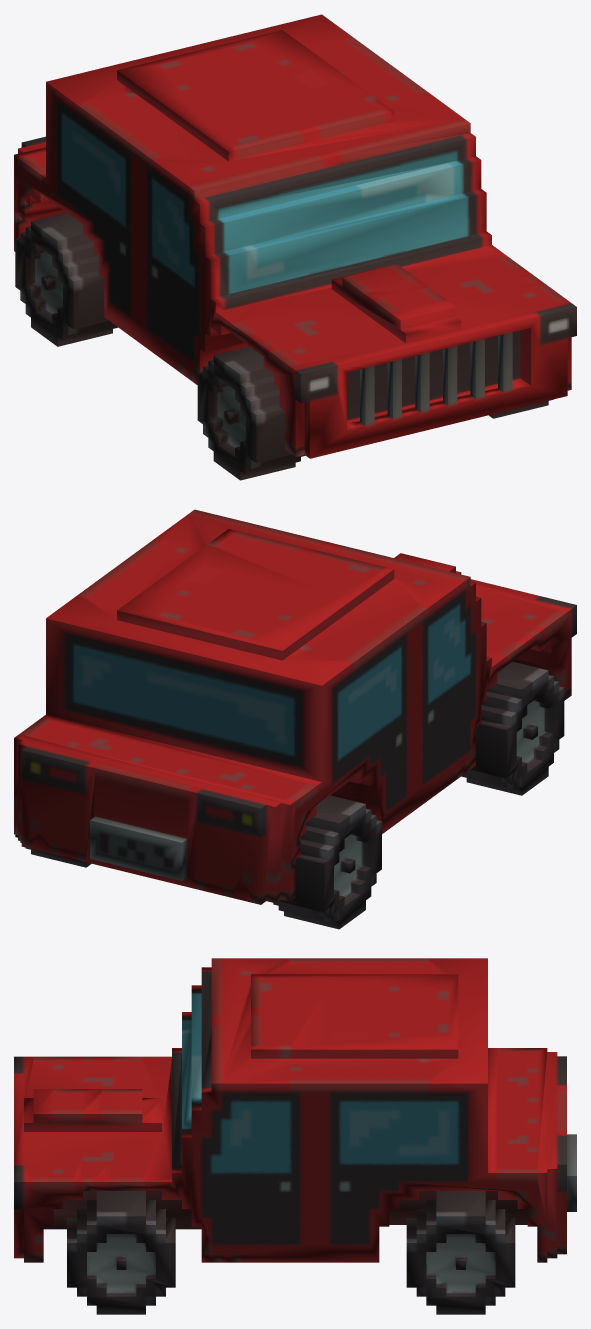
The model's file is CarA.fbx.
The picture shows the model from 3 angles, top to bottom: view 1: azimuth 30°, elevation 25°; view 2: azimuth 150°, elevation 25°; view 3: azimuth 270°, elevation 25°; orthographic projection. The views are drawn at different scales.
Visible parts, largest first — view 1: CarA1, CarA5, CarA3; view 2: CarA1, CarA3, CarA5; view 3: CarA1, CarA4, CarA2.
Boxes of the visible parts, x1,y1,x2,y2 form: CarA1: (14,14,576,458); CarA5: (15,213,117,346); CarA3: (197,346,305,480); CarA1: (14,509,576,904); CarA3: (461,662,564,795); CarA5: (273,795,381,929); CarA1: (14,958,576,1262); CarA4: (406,1191,515,1314); CarA2: (67,1191,175,1314).
Bounding box in the file's own units: 33.49 × 26 × 57.
